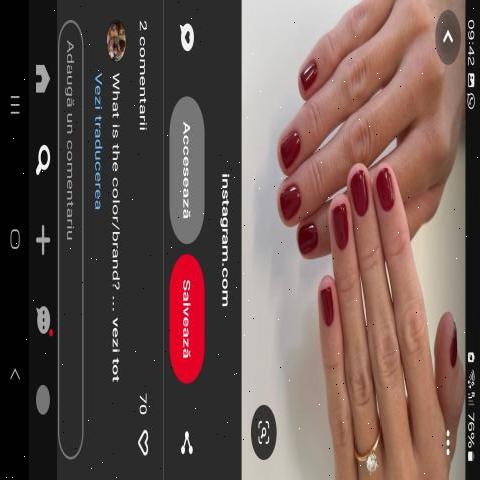Hands: (280, 158, 476, 480), (269, 0, 466, 267)
